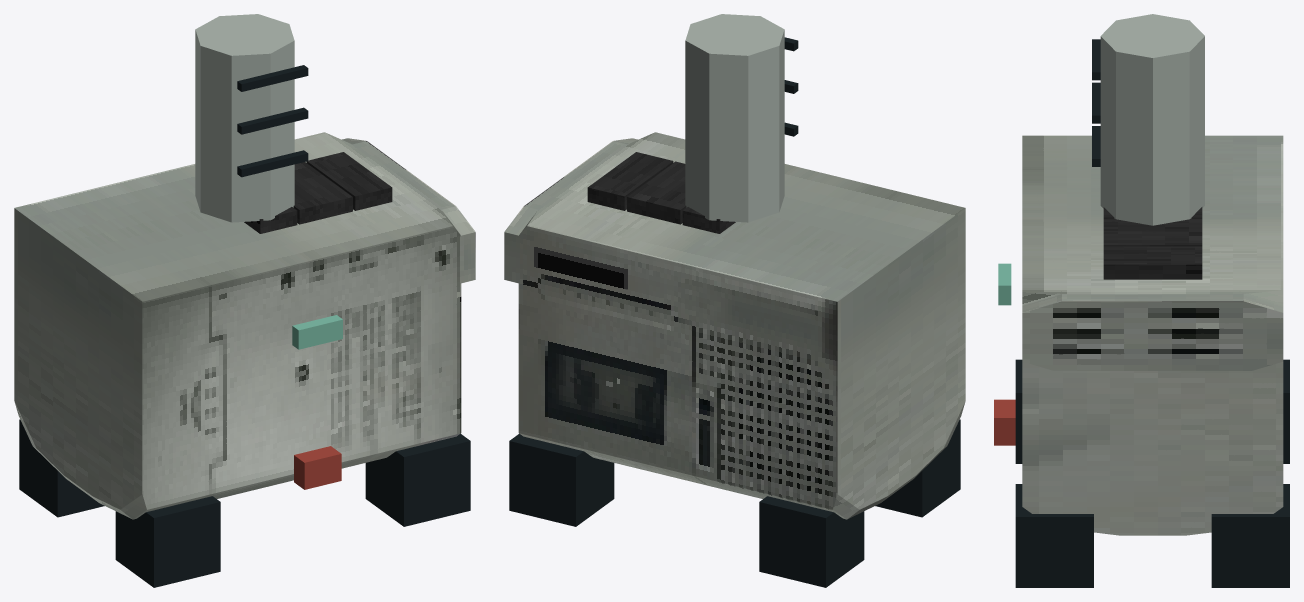
File: blender_sound_sensor_1.glb
3 renders of one model, left to right at view 1: azimuth 30°, elevation 25°; view 2: azimuth 150°, elevation 25°; view 3: azimuth 270°, elevation 25°, orthographic.
Parts seen in each view (by area): view 1: blender_sound_sensor_1; view 2: blender_sound_sensor_1; view 3: blender_sound_sensor_1.
Part boxes in pixels (x1,y1,x2,y2): blender_sound_sensor_1: (14, 14, 475, 587); blender_sound_sensor_1: (504, 14, 965, 587); blender_sound_sensor_1: (994, 14, 1289, 587).
Bounding box in the file's own units: 0.09 × 0.12 × 0.068.
Materials: 1 (1 with a texture image).
